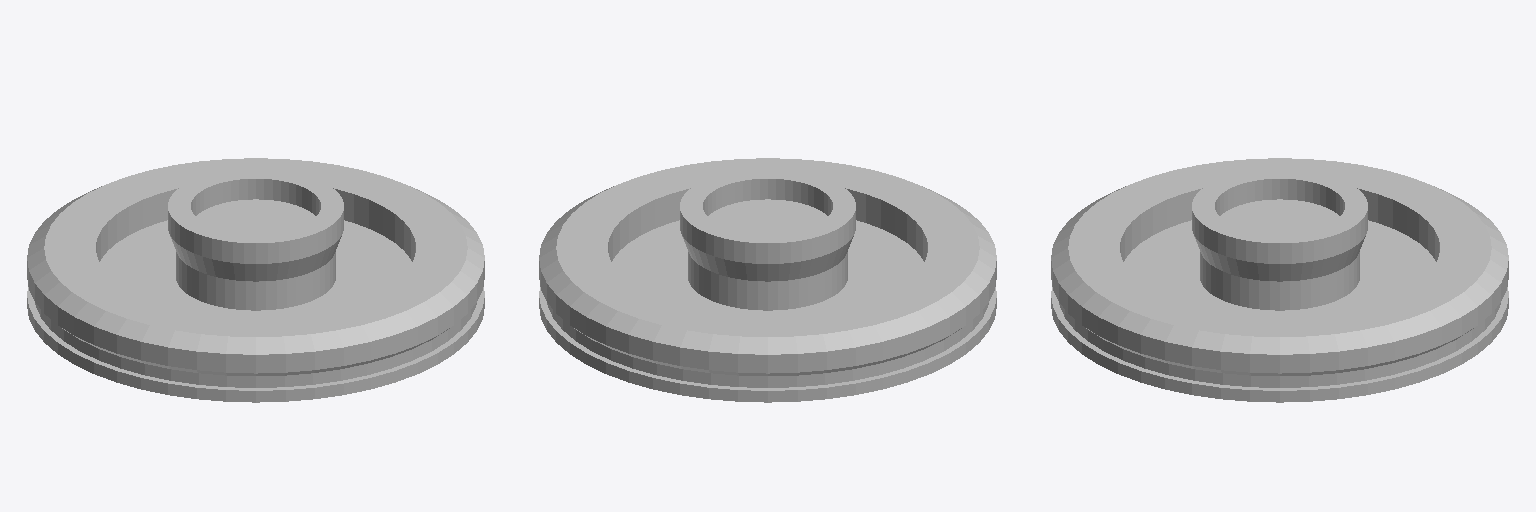
The model's file is fountain-round-detail.obj.
The picture shows the model from 3 angles: view 1: azimuth 30°, elevation 25°; view 2: azimuth 150°, elevation 25°; view 3: azimuth 270°, elevation 25°; orthographic projection.
Parts seen in each view (by area): view 1: fountain-round-detail, (%ignore); view 2: fountain-round-detail, (%ignore); view 3: fountain-round-detail, (%ignore).
Boxes of the visible parts, x1=… form: fountain-round-detail: x1=27, y1=158, x2=484, y2=402; (%ignore): x1=100, y1=199, x2=411, y2=314; fountain-round-detail: x1=539, y1=158, x2=996, y2=402; (%ignore): x1=612, y1=199, x2=923, y2=314; fountain-round-detail: x1=1051, y1=158, x2=1508, y2=402; (%ignore): x1=1124, y1=199, x2=1435, y2=314.
Size of the model in its own units: 2 by 0.48 by 2.